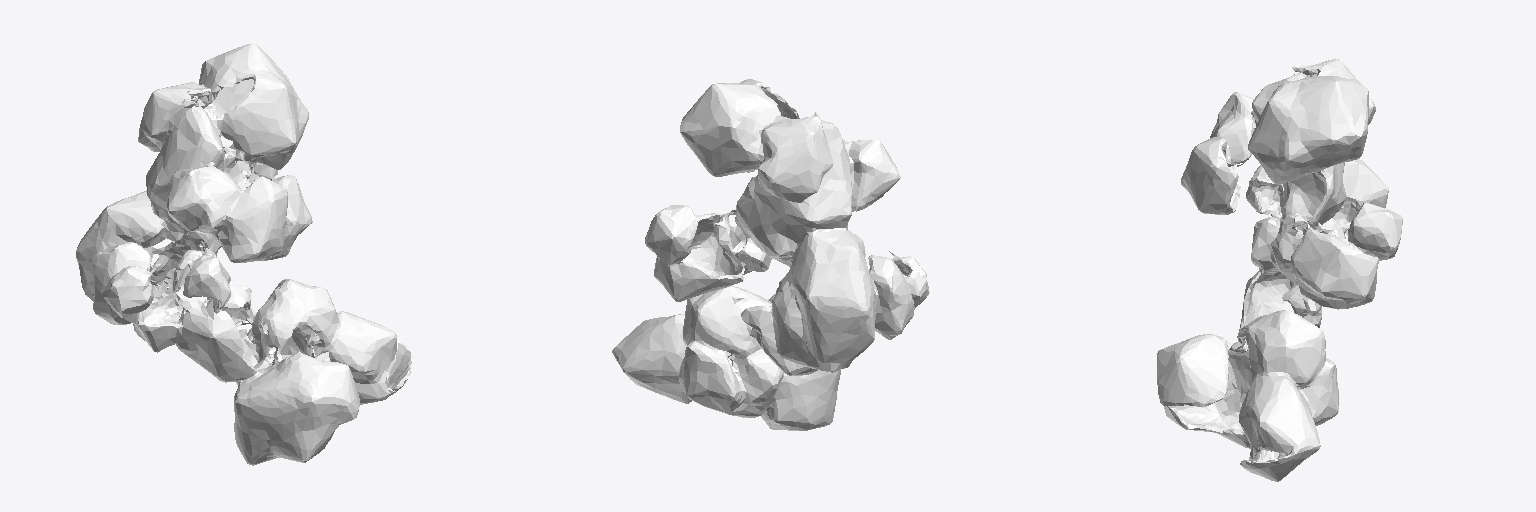
Rendered from goldfiliment.obj.
3 views of the same model, side by side, from view 1: azimuth 30°, elevation 25°; view 2: azimuth 150°, elevation 25°; view 3: azimuth 270°, elevation 25° (orthographic).
Size of the model in its own units: 600 by 700 by 419.